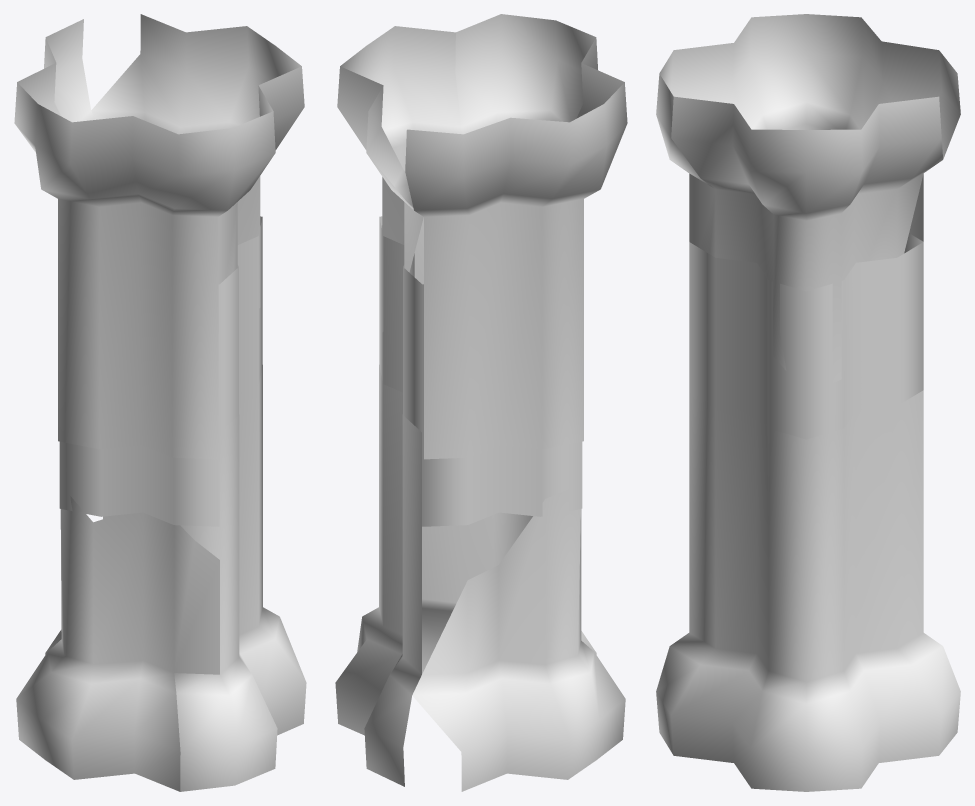
File: SM_Env_Vine_Pillar_Ornate_Rounded_01.fbx
3 renders of one model, left to right at view 1: azimuth 30°, elevation 25°; view 2: azimuth 150°, elevation 25°; view 3: azimuth 270°, elevation 25°, orthographic.
Parts seen in each view (by area): view 1: SM_Env_Vine_Pillar_Ornate_Rounded_01; view 2: SM_Env_Vine_Pillar_Ornate_Rounded_01; view 3: SM_Env_Vine_Pillar_Ornate_Rounded_01.
Part boxes in pixels (left/top/right/bottom): SM_Env_Vine_Pillar_Ornate_Rounded_01: left=14, top=14, right=306, bottom=791; SM_Env_Vine_Pillar_Ornate_Rounded_01: left=335, top=14, right=627, bottom=791; SM_Env_Vine_Pillar_Ornate_Rounded_01: left=656, top=14, right=960, bottom=791.
Bounding box in the file's own units: 120 × 300 × 126.
